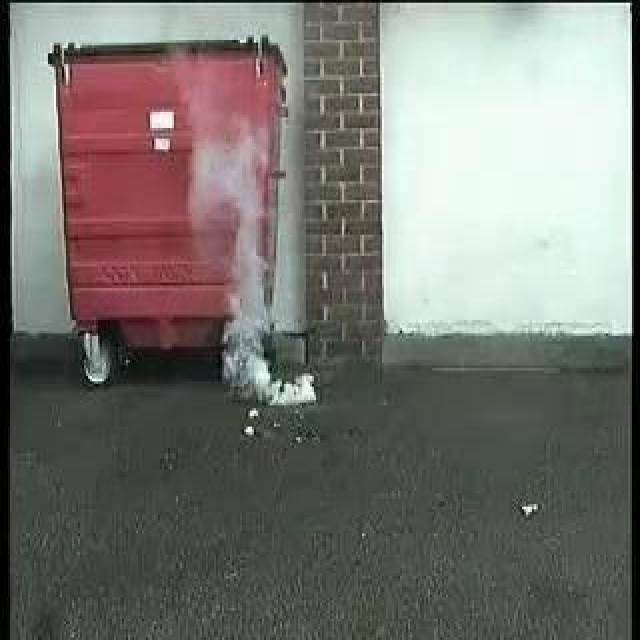Smoke: (188, 129, 318, 407)
